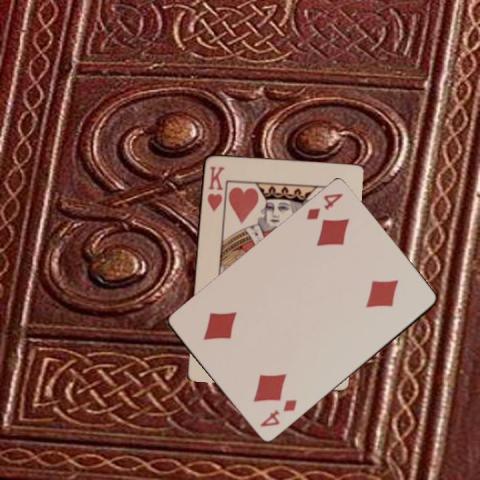4d: (256, 396, 298, 428), (302, 191, 344, 222)
Kh: (204, 162, 225, 212)
